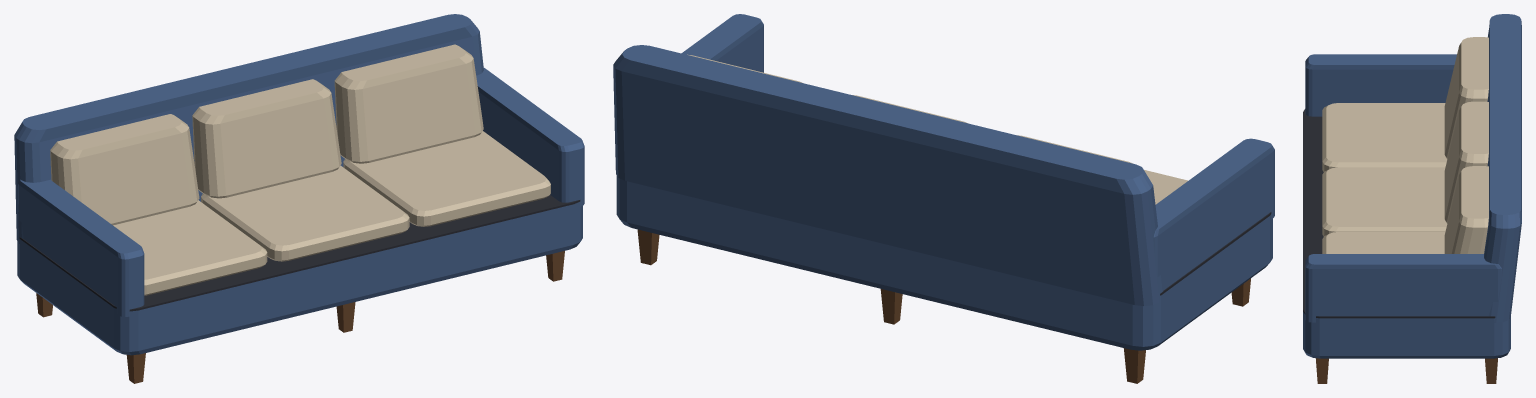
Rendered from FN_Sofa_3Seat.glb.
The picture shows the model from 3 angles, left to right: view 1: azimuth 30°, elevation 25°; view 2: azimuth 150°, elevation 25°; view 3: azimuth 270°, elevation 25°; orthographic projection. The views are drawn at different scales.
Visible parts, largest first — view 1: FN_Sofa_3Seat; view 2: FN_Sofa_3Seat; view 3: FN_Sofa_3Seat.
Part boxes in pixels (x1,y1,x2,y2): FN_Sofa_3Seat: (14,14,584,383); FN_Sofa_3Seat: (613,14,1274,383); FN_Sofa_3Seat: (1303,14,1521,383).
Bounding box in the file's own units: 2.12 × 0.806 × 0.927.
1 material, 1 textured.
